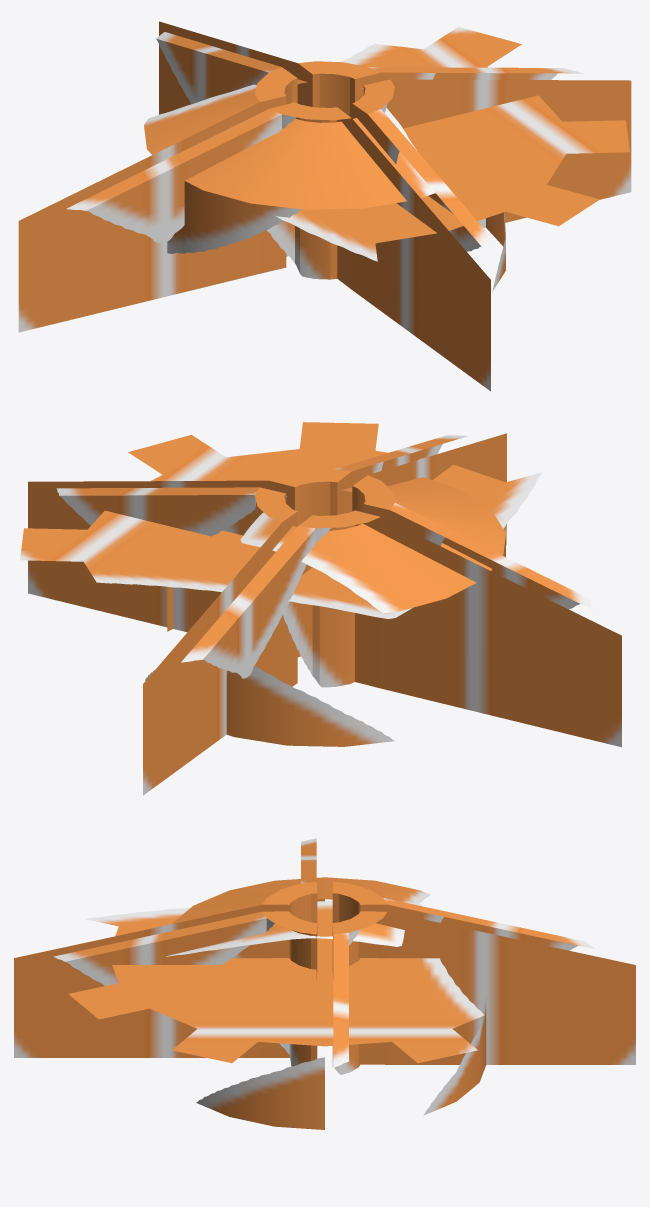
File: PickupBaseArmor.fbx
3 renders of one model, top to bottom at view 1: azimuth 30°, elevation 25°; view 2: azimuth 150°, elevation 25°; view 3: azimuth 270°, elevation 25°, orthographic. The views are drawn at different scales.
Visible parts, largest first — view 1: Armor_base; view 2: Armor_base; view 3: Armor_base.
Boxes of the visible parts, left/top/right/bottom form: Armor_base: left=18, top=21, right=631, bottom=391; Armor_base: left=20, top=422, right=621, bottom=795; Armor_base: left=14, top=838, right=635, bottom=1129.
Size of the model in its own units: 1.29 by 0.3515 by 1.29.
